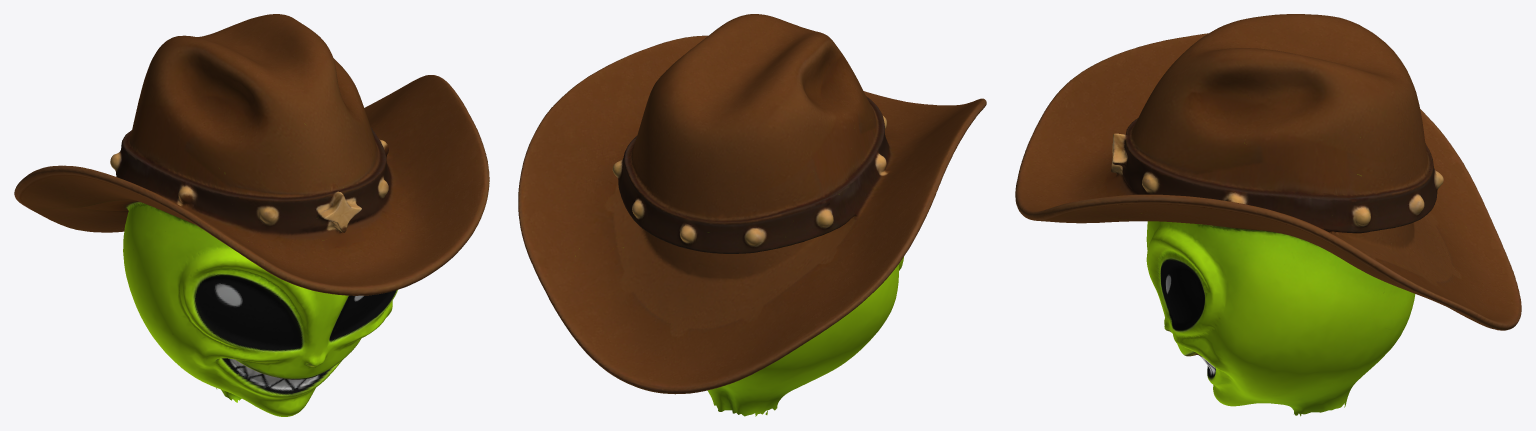
The model's file is cauboi.glb.
The picture shows the model from 3 angles, left to right: view 1: azimuth 30°, elevation 25°; view 2: azimuth 150°, elevation 25°; view 3: azimuth 270°, elevation 25°; orthographic projection. The views are drawn at different scales.
Parts seen in each view (by area): view 1: Mesh_0.003; view 2: Mesh_0.003; view 3: Mesh_0.003.
Boxes of the visible parts, box(x1,y1,x2,y2) form: Mesh_0.003: box(14, 14, 489, 416); Mesh_0.003: box(518, 14, 986, 416); Mesh_0.003: box(1015, 14, 1521, 416).
Bounding box in the file's own units: 0.9441 × 0.8468 × 1.03.
1 material, 1 textured.
